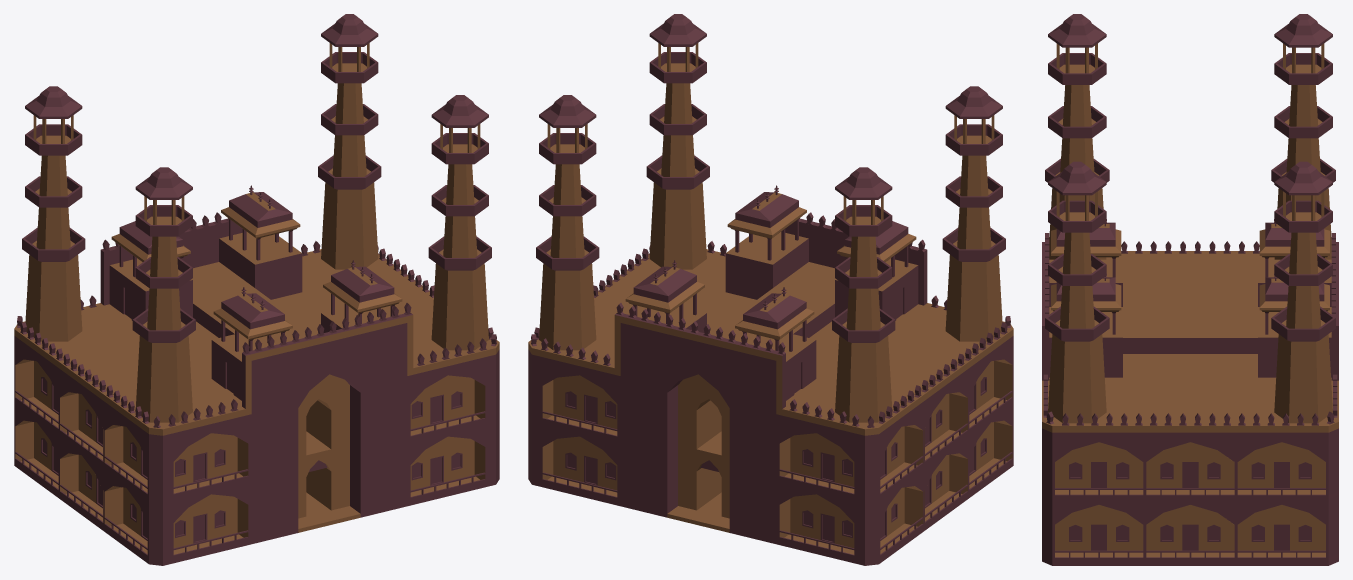
File: hindu-tomb.fbx
3 renders of one model, left to right at view 1: azimuth 30°, elevation 25°; view 2: azimuth 150°, elevation 25°; view 3: azimuth 270°, elevation 25°, orthographic. The views are drawn at different scales.
Parts seen in each view (by area): view 1: hindu-tomb; view 2: hindu-tomb; view 3: hindu-tomb.
Boxes of the visible parts, x1=… form: hindu-tomb: x1=14, y1=14, x2=499, y2=565; hindu-tomb: x1=528, y1=14, x2=1013, y2=565; hindu-tomb: x1=1042, y1=14, x2=1338, y2=565.
Bounding box in the file's own units: 28.2 × 29.1 × 20.2.
